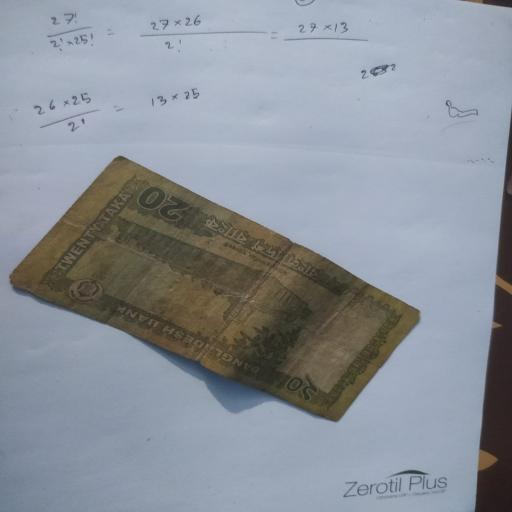20taka: (11, 157, 419, 420)
